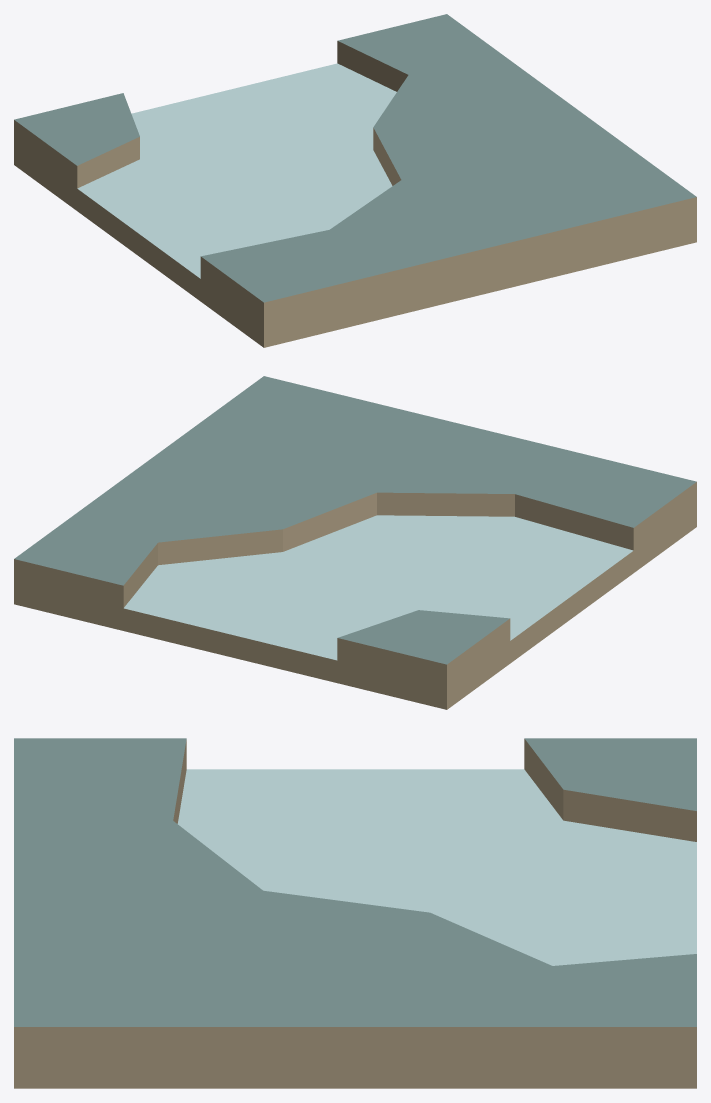
Rendered from Nature River 4.fbx.
3 views of the same model, one above another, from view 1: azimuth 30°, elevation 25°; view 2: azimuth 150°, elevation 25°; view 3: azimuth 270°, elevation 25° (orthographic). The views are drawn at different scales.
Parts seen in each view (by area): view 1: Nature River 4; view 2: Nature River 4; view 3: Nature River 4.
Boxes of the visible parts, x1,y1,x2,y2 form: Nature River 4: (14, 14, 696, 347); Nature River 4: (14, 376, 696, 709); Nature River 4: (14, 738, 696, 1088).
Size of the model in its own units: 3 by 0.3 by 3.
